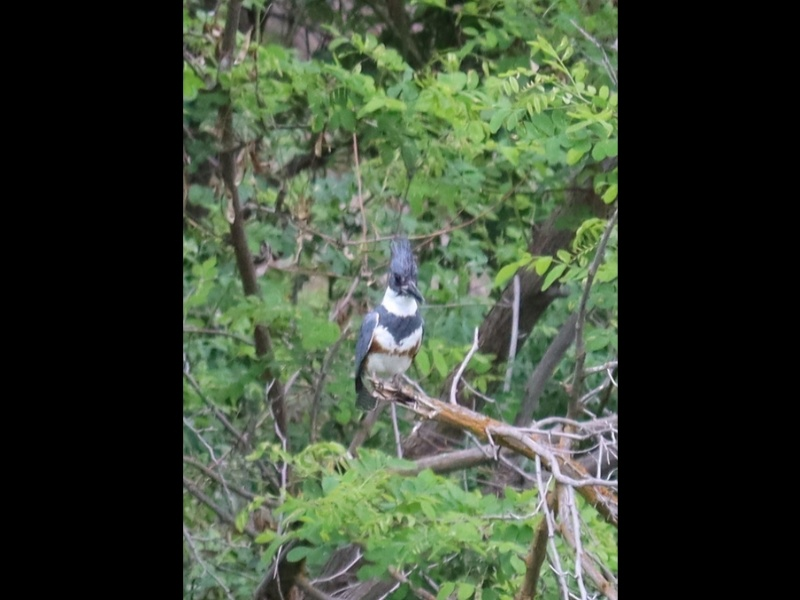kingfisher: (355, 233, 424, 416)
